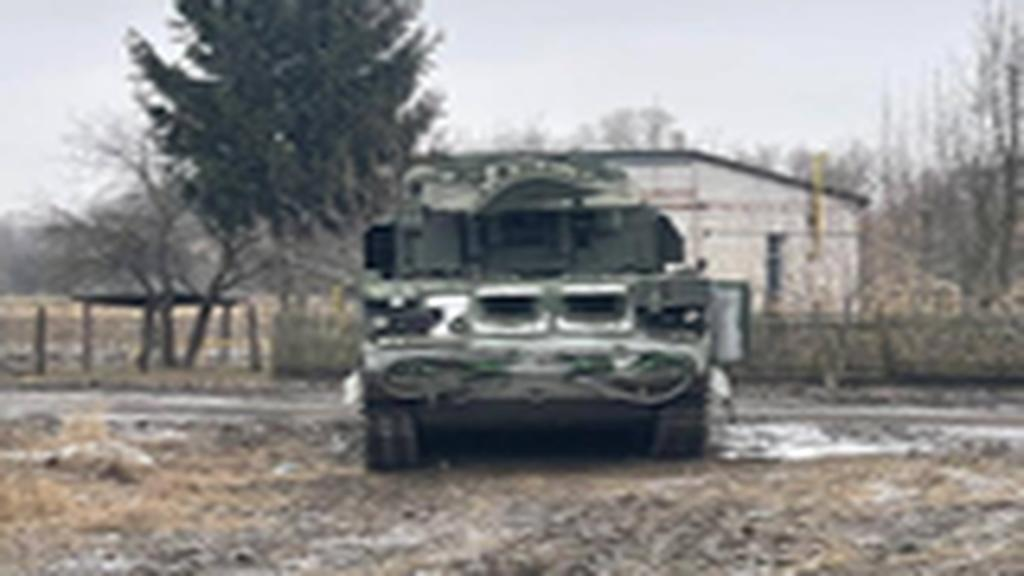MLRS: (342, 156, 730, 462)
